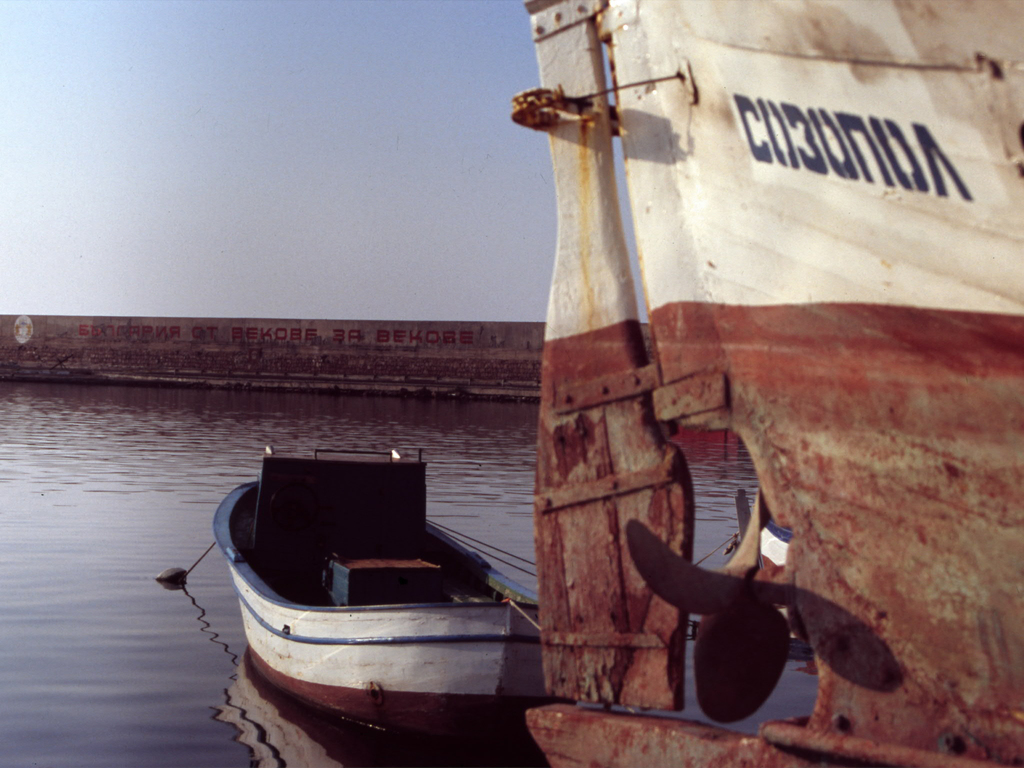boat: (139, 412, 553, 747)
